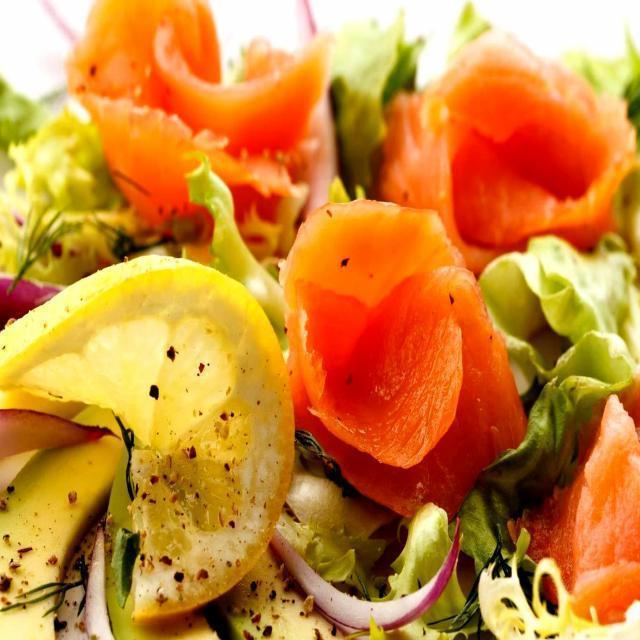Salmon: (284, 192, 508, 488)
